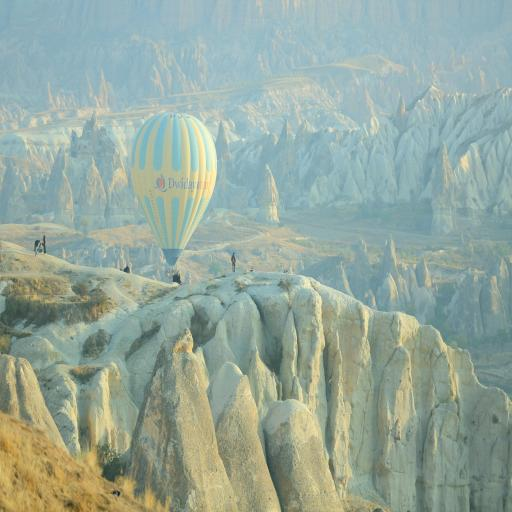hot air ballon: (130, 108, 219, 278)
